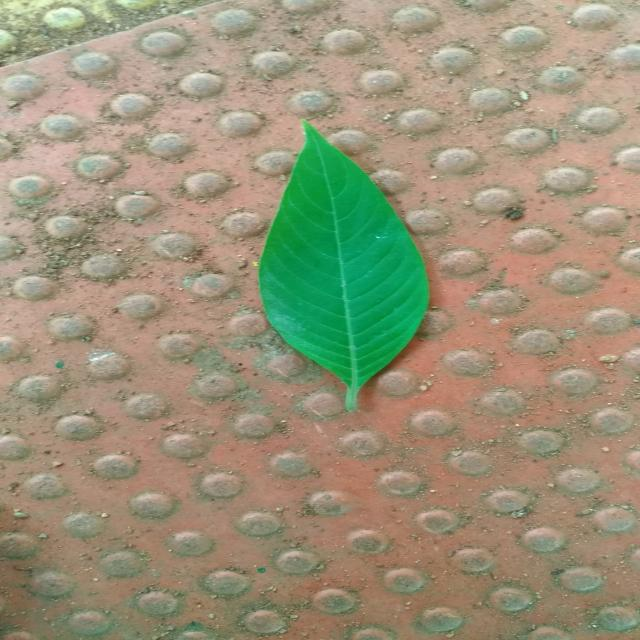malabar_nut: (260, 121, 429, 411)
